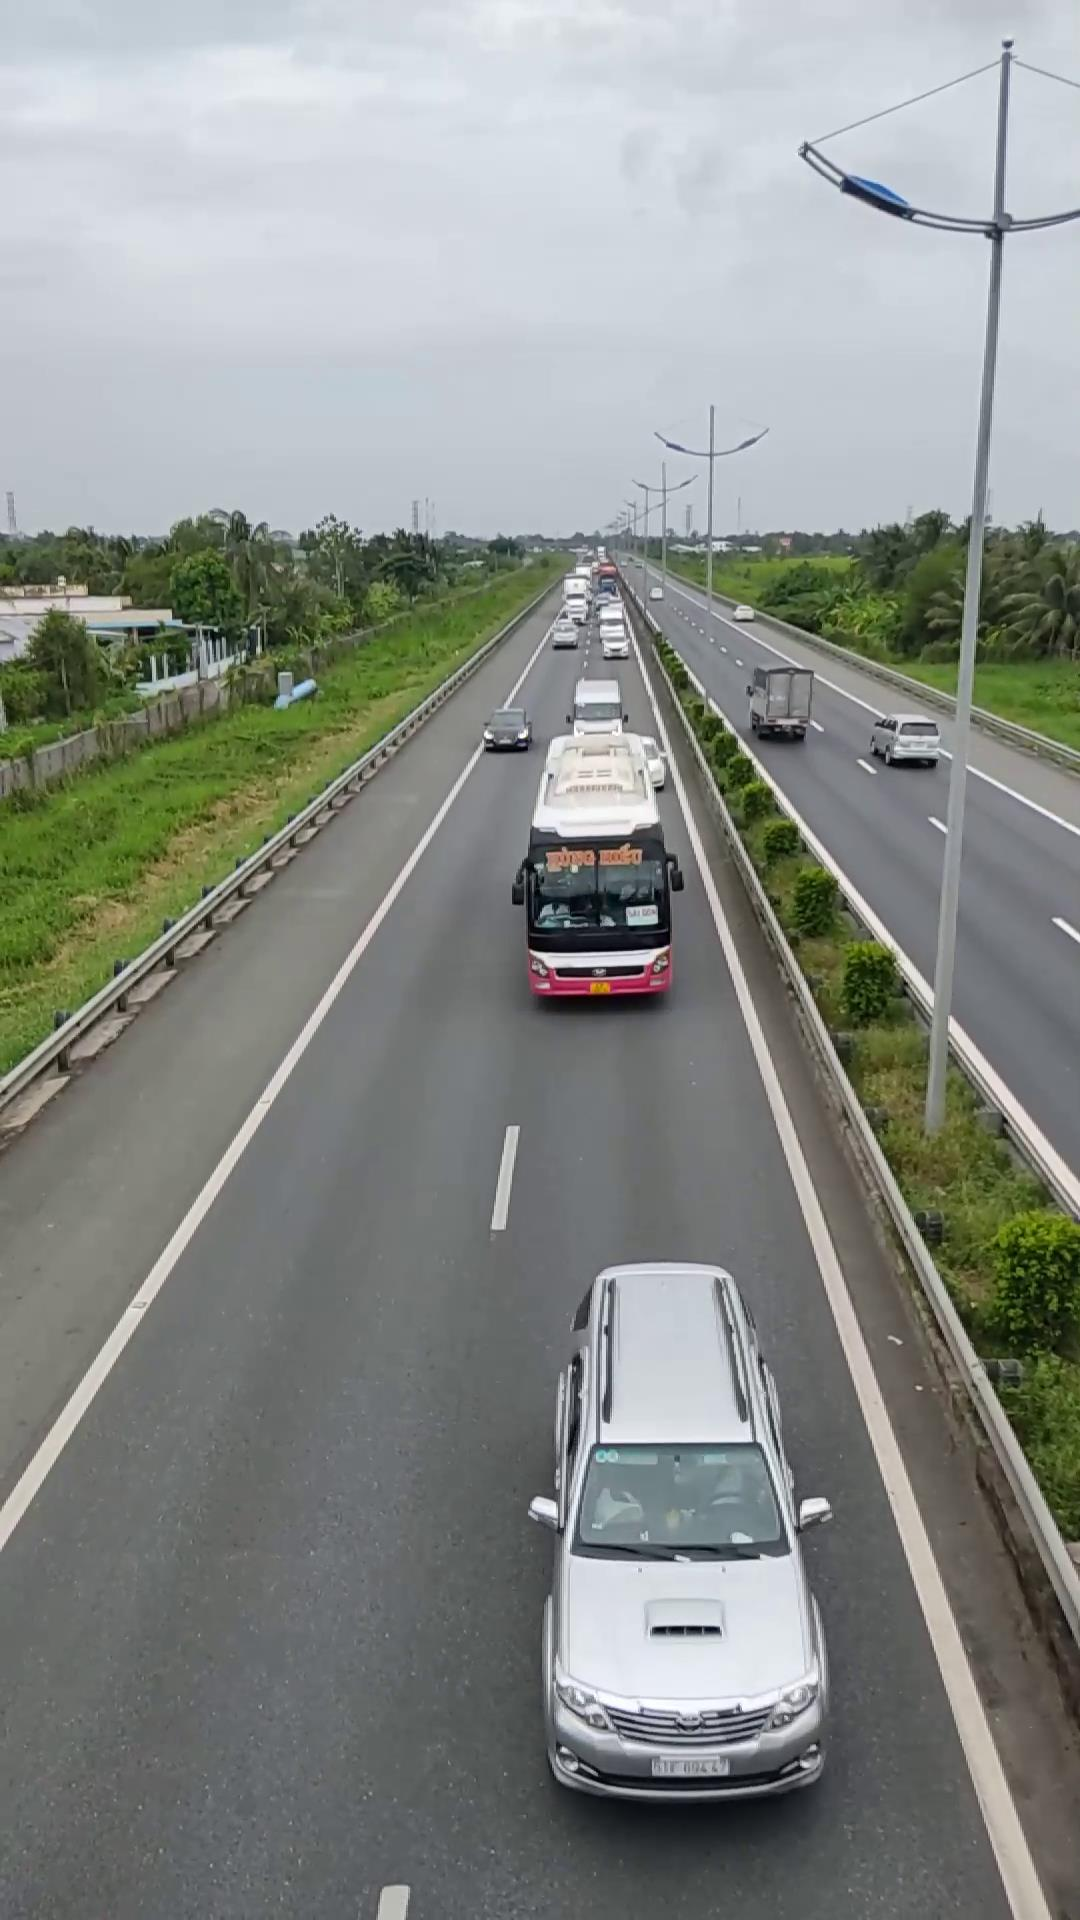bus: (512, 736, 679, 1004)
car: (527, 1261, 829, 1793)
truck: (745, 659, 815, 738)
